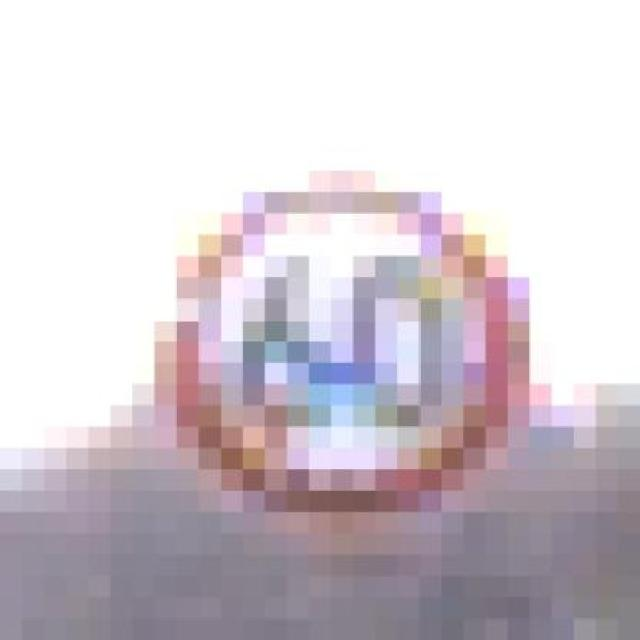forb_speed_over_60: (168, 191, 514, 502)
